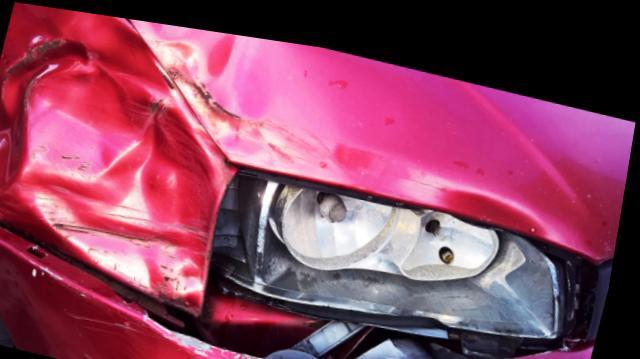dent: (127, 15, 550, 220), (0, 2, 238, 285)
dislocated part: (0, 222, 574, 359)
lamp broken: (217, 154, 579, 324)
scratch: (146, 324, 495, 359)
